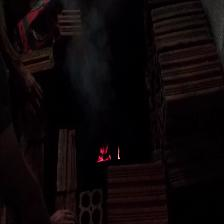smoke: (93, 145, 122, 163)
